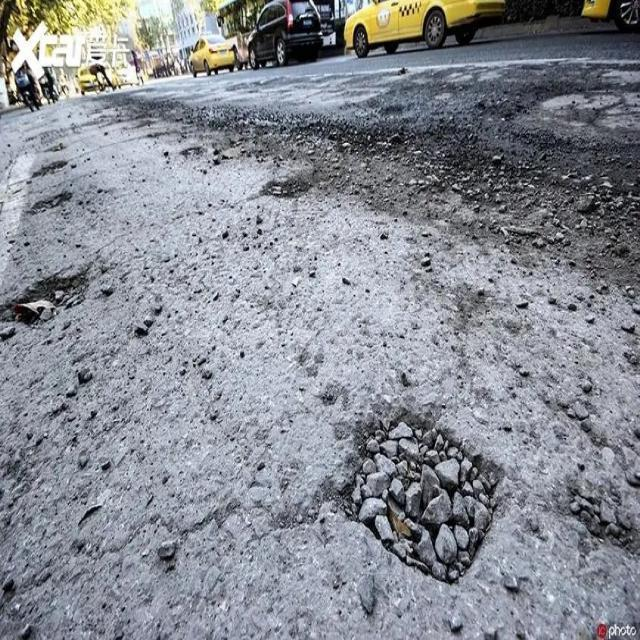pothole: (339, 407, 500, 589), (571, 479, 640, 563), (8, 269, 92, 326), (256, 174, 317, 206), (27, 193, 73, 216), (34, 159, 70, 180)
